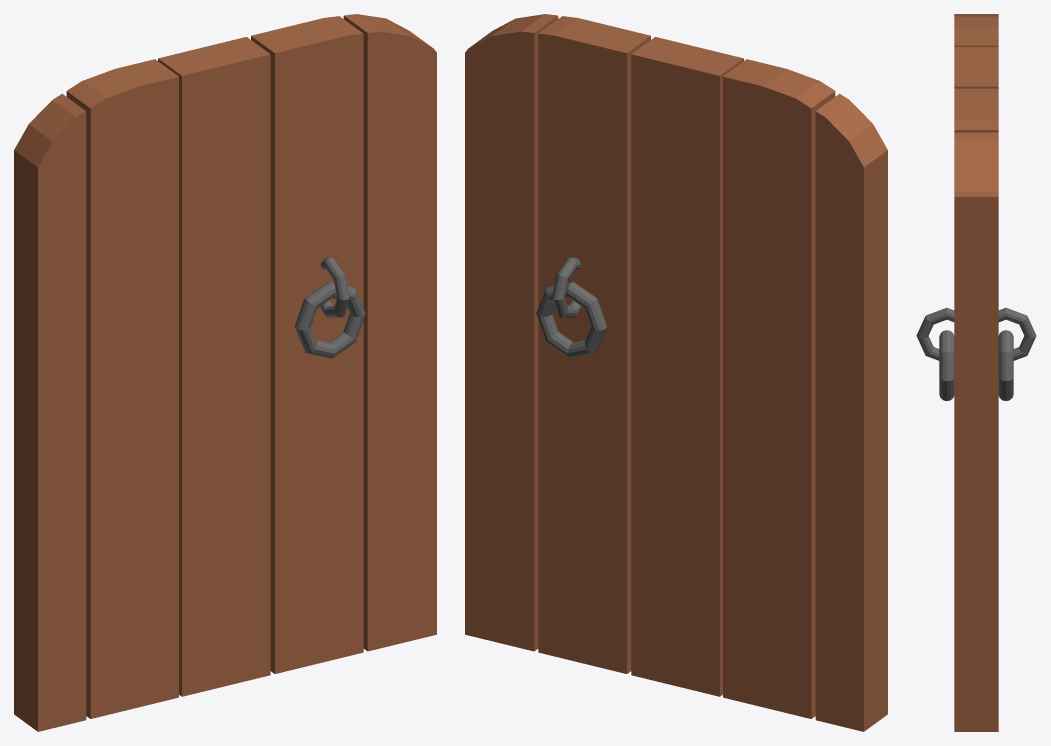
File: door.glb
The picture shows the model from 3 angles, left to right: view 1: azimuth 30°, elevation 25°; view 2: azimuth 150°, elevation 25°; view 3: azimuth 270°, elevation 25°; orthographic projection. The views are drawn at different scales.
Parts seen in each view (by area): view 1: door; view 2: door; view 3: door.
Part boxes in pixels (<box>): door: <box>14,14,436,731</box>; door: <box>465,14,887,731</box>; door: <box>916,14,1036,731</box>.
Bounding box in the file's own units: 0.6698 × 0.9966 × 0.1901.
Materials: 1 (1 with a texture image).
